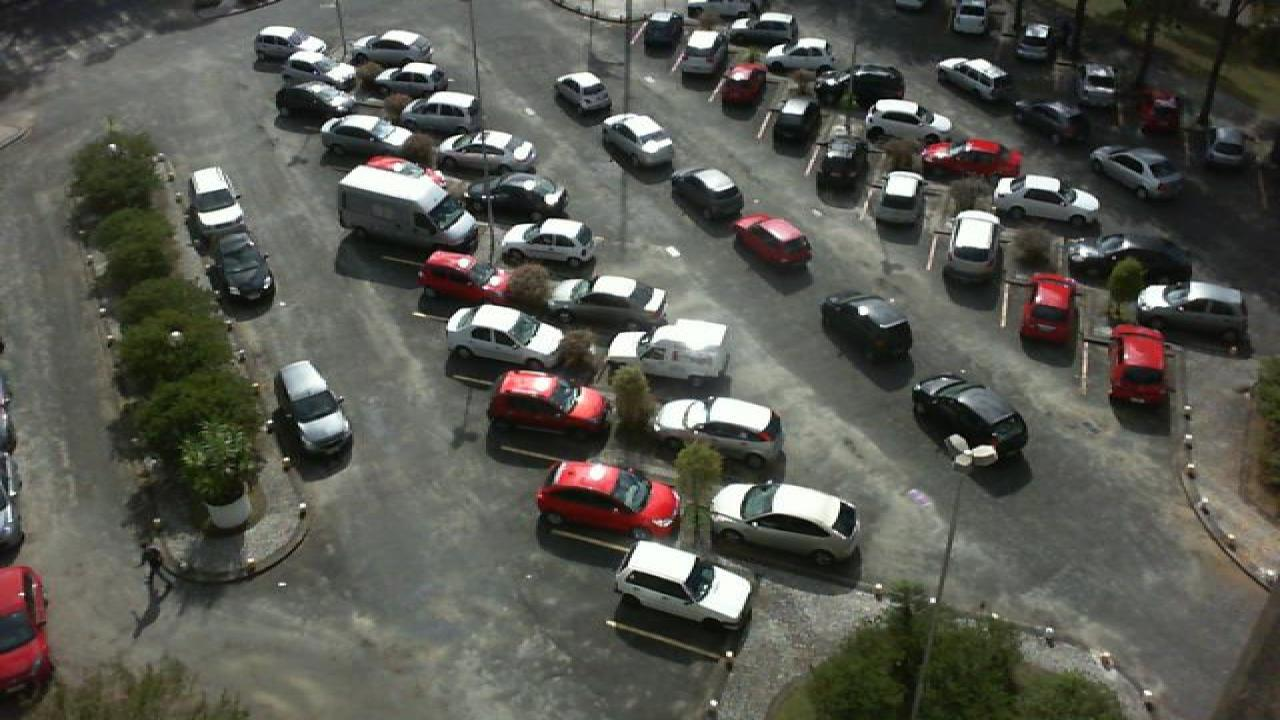Car: (612, 539, 758, 631), (534, 459, 686, 545), (708, 480, 864, 562), (908, 371, 1034, 461), (652, 394, 788, 470), (486, 367, 616, 439), (604, 317, 732, 388), (440, 303, 570, 370), (272, 359, 356, 460), (0, 564, 56, 700), (818, 290, 916, 362), (1136, 279, 1252, 337), (1066, 233, 1192, 286), (414, 248, 516, 310), (560, 274, 672, 330), (990, 173, 1104, 226), (1086, 145, 1190, 203), (498, 216, 600, 273), (204, 227, 278, 305), (466, 170, 570, 222), (1110, 324, 1172, 410), (436, 132, 542, 180), (730, 211, 816, 268), (918, 138, 1026, 182), (188, 166, 252, 238), (316, 114, 416, 160), (944, 210, 1004, 286), (1016, 272, 1080, 343), (670, 166, 748, 224), (600, 111, 678, 169), (818, 62, 910, 109), (864, 98, 952, 144), (398, 90, 484, 136), (934, 55, 1014, 104), (272, 80, 362, 122), (1014, 99, 1092, 143), (874, 170, 930, 231), (284, 51, 360, 91), (762, 36, 838, 76), (354, 30, 438, 66), (816, 135, 864, 197), (770, 97, 820, 154), (252, 25, 328, 62), (370, 64, 448, 100), (368, 154, 454, 185), (552, 70, 612, 114), (730, 10, 796, 45), (722, 61, 768, 111), (1136, 91, 1182, 140), (680, 30, 726, 77), (1208, 125, 1252, 169), (1078, 62, 1122, 106), (640, 12, 682, 56), (1010, 20, 1052, 61), (950, 0, 990, 36)
